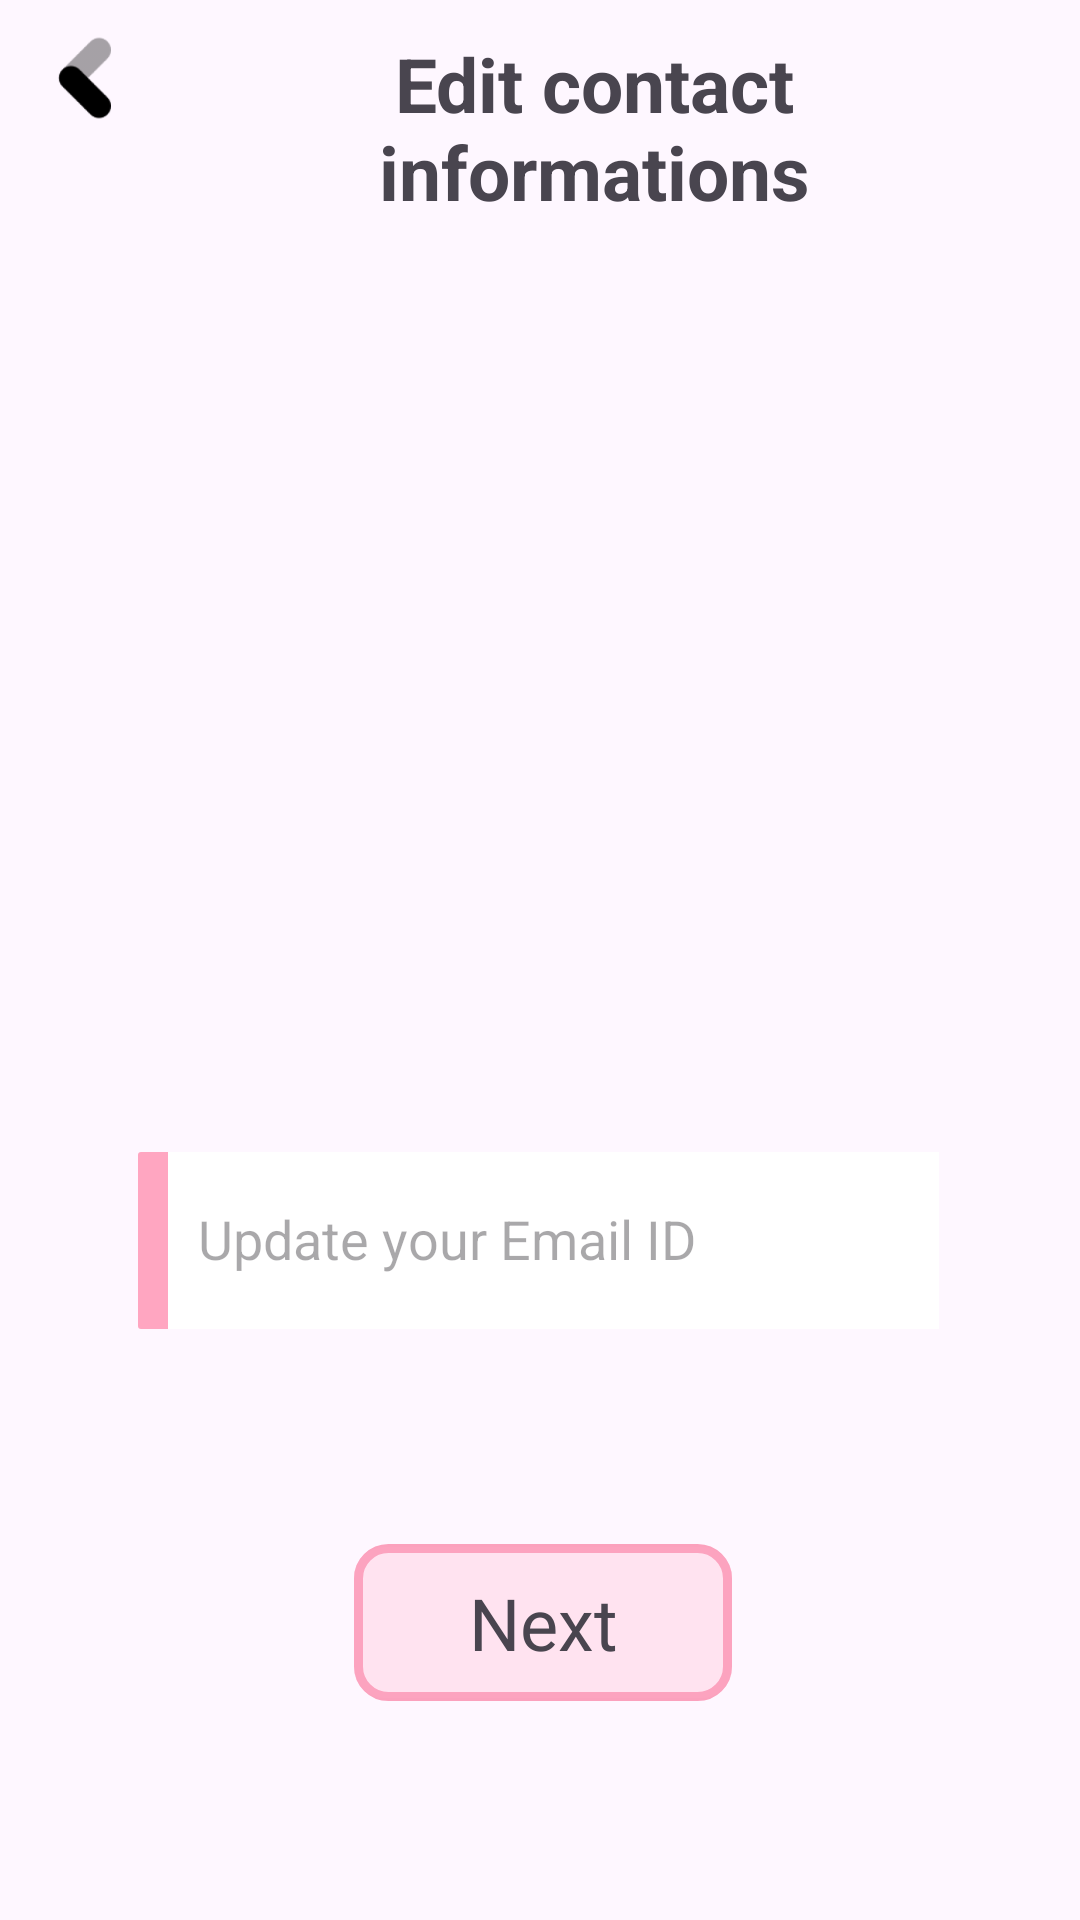

Icons on this 1080 x 1920 Android screen, each with the point to tap as [x,y]:
backbtn: [84,78]
